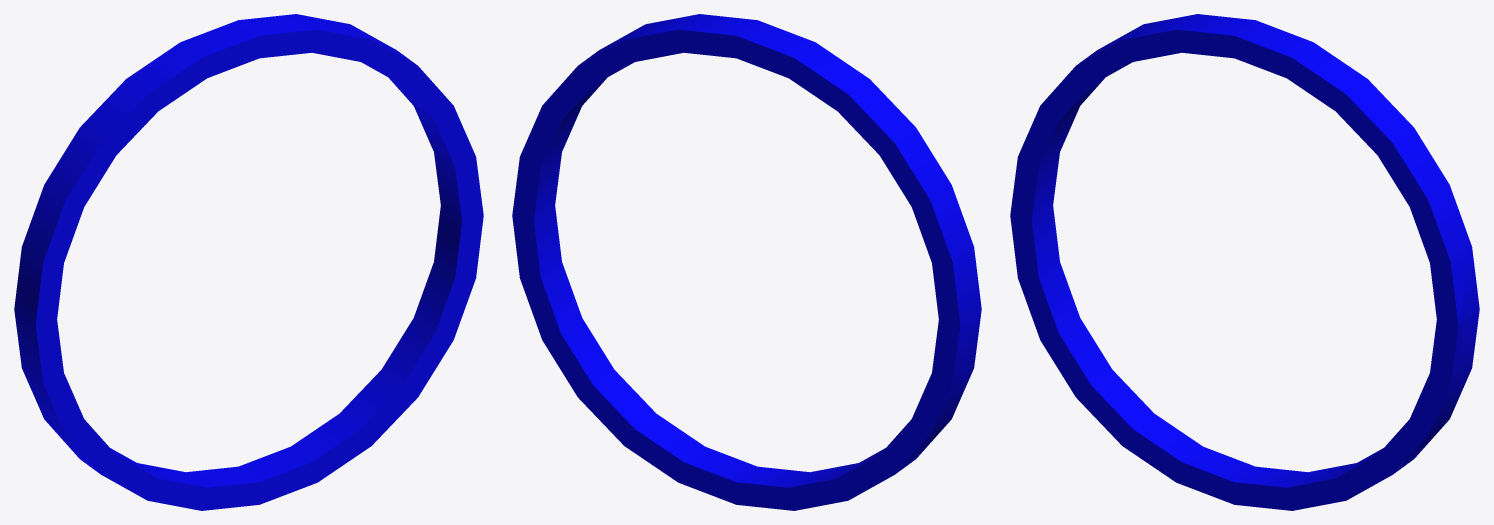
Rendered from bluering.dae.
3 views of the same model, side by side, from view 1: azimuth 30°, elevation 25°; view 2: azimuth 150°, elevation 25°; view 3: azimuth 330°, elevation 25° (orthographic).
Visible parts, largest first — view 1: group_0 (×2); view 2: group_0 (×2); view 3: group_0 (×2).
Part boxes in pixels (<box>): group_0 (×2): <box>14,14,483,510</box>; group_0 (×2): <box>512,14,981,510</box>; group_0 (×2): <box>1010,14,1479,510</box>.
Bounding box in the file's own units: 601 × 49.51 × 601.
